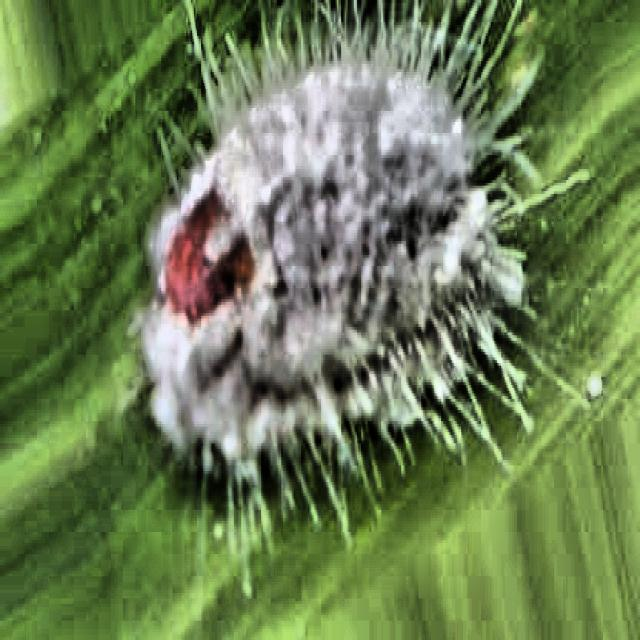Mealy-bug: (93, 0, 546, 511)
